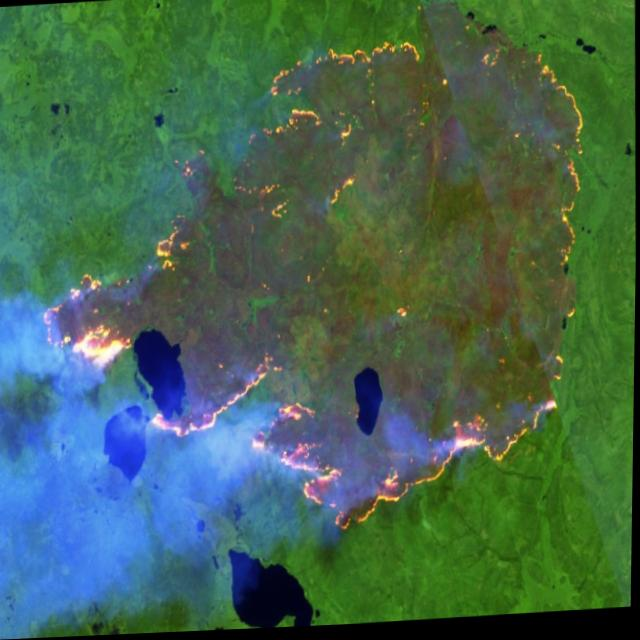fire: (28, 0, 610, 571)
